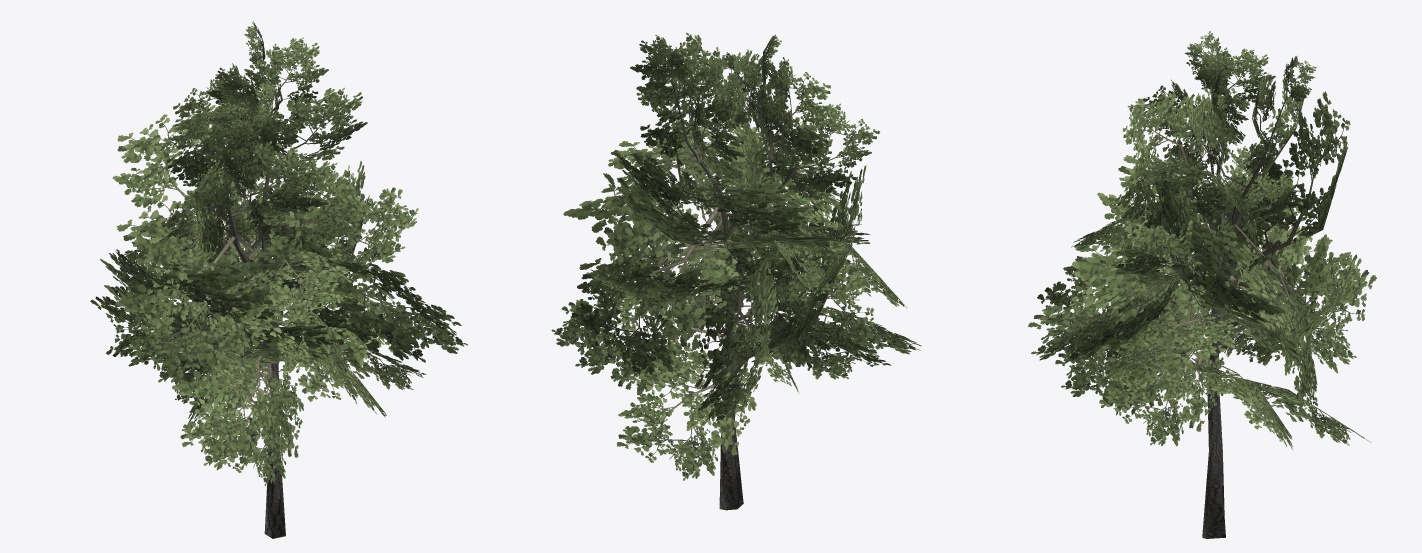
File: tree13.fbx
The picture shows the model from 3 angles, left to right: view 1: azimuth 30°, elevation 25°; view 2: azimuth 150°, elevation 25°; view 3: azimuth 270°, elevation 25°; orthographic projection. The views are drawn at different scales.
Parts seen in each view (by area): view 1: Tree-02-3; view 2: Tree-02-3; view 3: Tree-02-3.
Boxes of the visible parts, x1,y1,x2,y2 form: Tree-02-3: [90, 21, 467, 538]; Tree-02-3: [551, 32, 921, 510]; Tree-02-3: [1028, 31, 1376, 538].
Size of the model in its own units: 557 by 685 by 527.
